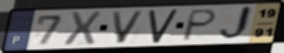7: (35, 13, 64, 46)
J: (218, 4, 255, 43)
P: (180, 8, 220, 43)
V: (110, 10, 147, 45), (147, 8, 180, 45)
X: (62, 11, 103, 48)
